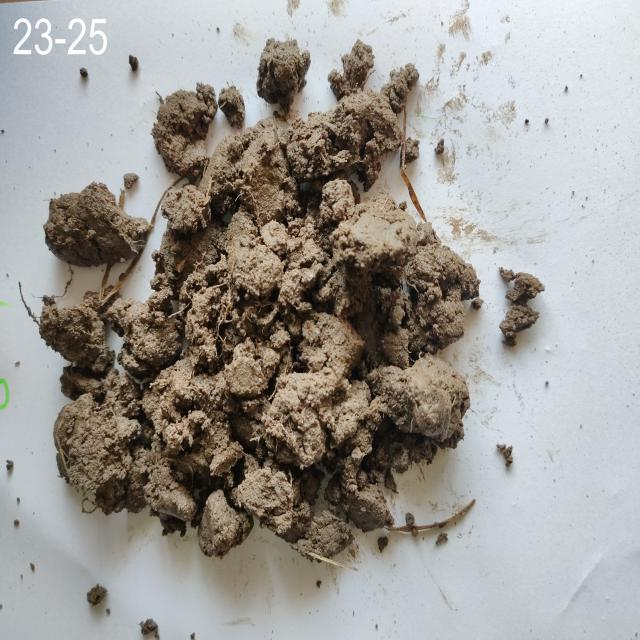soil: (160, 128, 437, 492)
